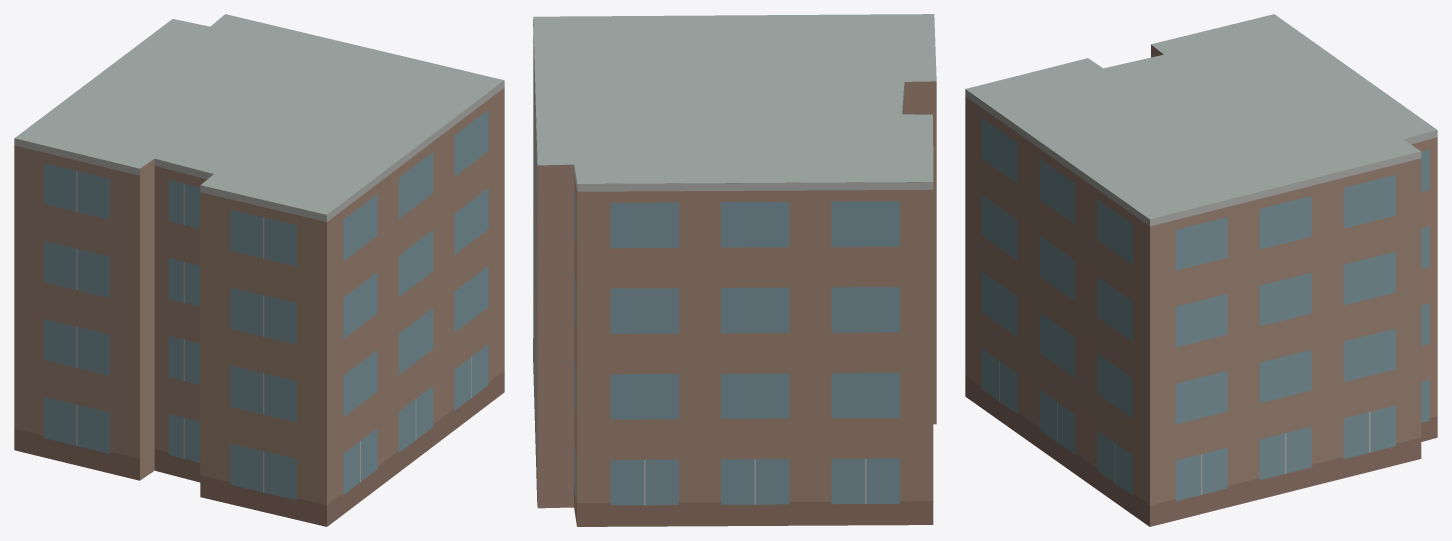
The model's file is survey-upis-32506692.glb.
The picture shows the model from 3 angles, left to right: view 1: azimuth 30°, elevation 25°; view 2: azimuth 150°, elevation 25°; view 3: azimuth 270°, elevation 25°; orthographic projection. The views are drawn at different scales.
Visible parts, largest first — view 1: survey-upis-32506692.tmp; view 2: survey-upis-32506692.tmp; view 3: survey-upis-32506692.tmp.
Part boxes in pixels (box(x1,y1,x2,y2)): survey-upis-32506692.tmp: box(14, 14, 504, 526); survey-upis-32506692.tmp: box(533, 14, 936, 526); survey-upis-32506692.tmp: box(965, 14, 1437, 526).
Size of the model in its own units: 15.34 by 10.7 by 14.91.
